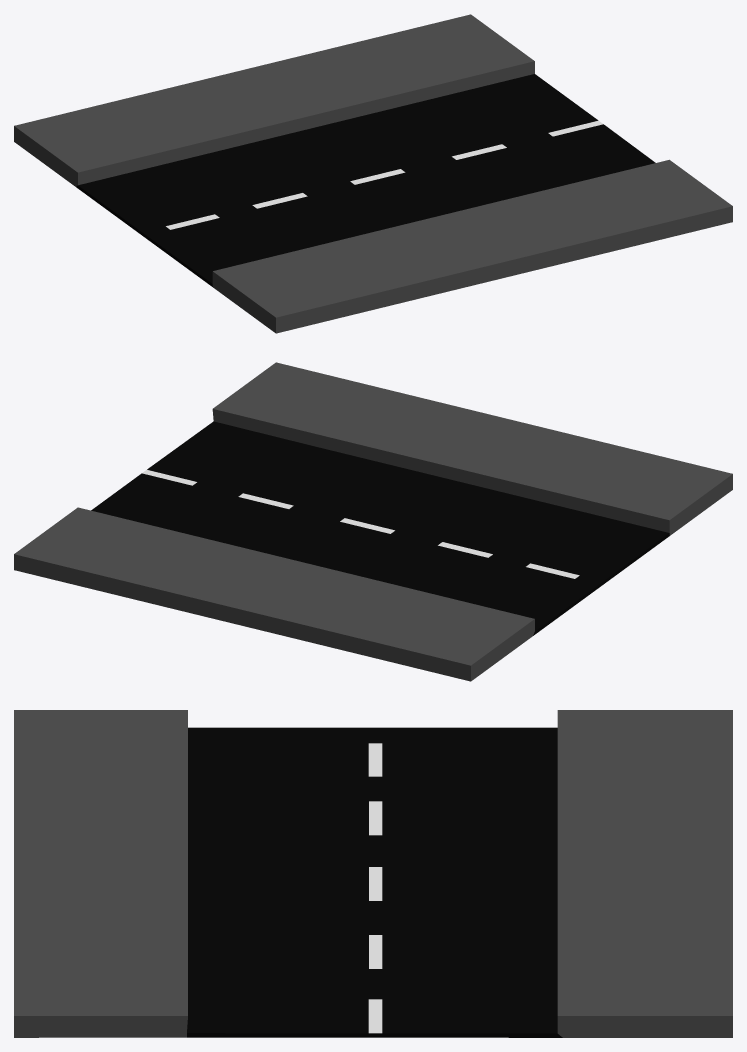
The model's file is low_poly_straight_road.glb.
The picture shows the model from 3 angles, top to bottom: view 1: azimuth 30°, elevation 25°; view 2: azimuth 150°, elevation 25°; view 3: azimuth 270°, elevation 25°; orthographic projection. The views are drawn at different scales.
Visible parts, largest first — view 1: StraightRoad_0; view 2: StraightRoad_0; view 3: StraightRoad_0.
Boxes of the visible parts, x1=… form: StraightRoad_0: x1=14, y1=14, x2=732, y2=333; StraightRoad_0: x1=14, y1=362, x2=732, y2=681; StraightRoad_0: x1=14, y1=710, x2=732, y2=1037.
Size of the model in its own units: 12 by 0.4011 by 11.92.
1 material, 1 textured.
